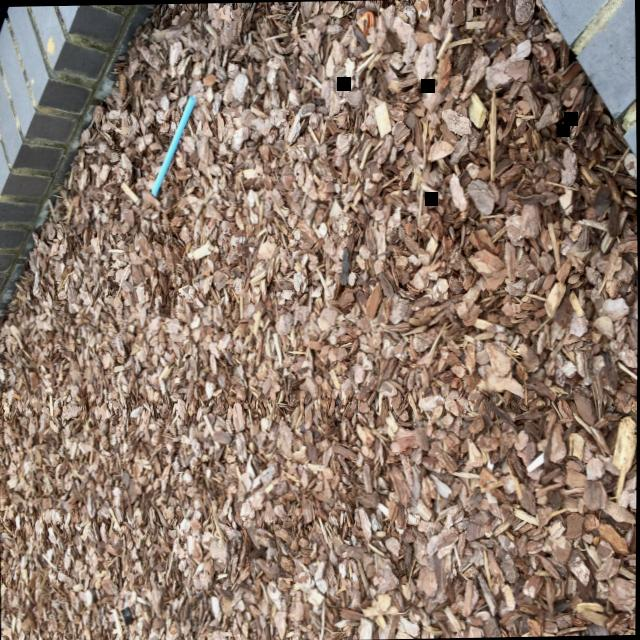Metal bottle cap: (121, 605, 133, 625), (86, 587, 96, 604)
Plastic straw: (152, 95, 196, 195)
